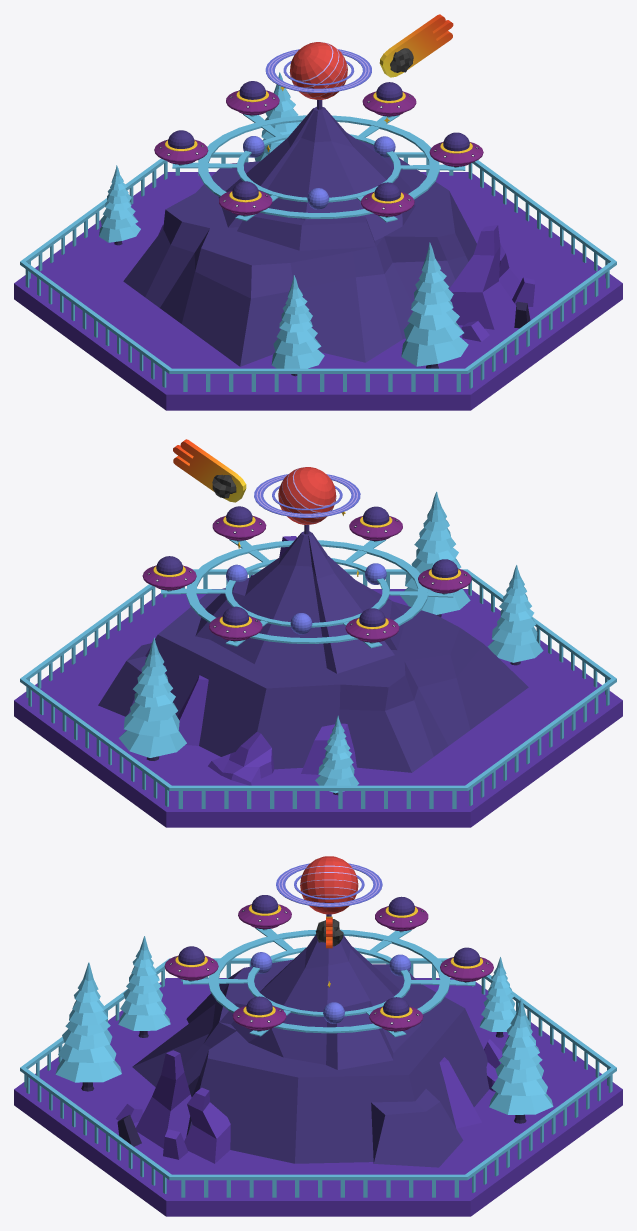
The model's file is D4_Cableway_UFO.fbx.
The picture shows the model from 3 angles, top to bottom: view 1: azimuth 30°, elevation 25°; view 2: azimuth 150°, elevation 25°; view 3: azimuth 270°, elevation 25°; orthographic projection.
Visible parts, largest first — view 1: Cylinder.060, Cube.062, Cone, Circle.008, Cylinder.071, Pine_Trees_Pack_Tree_stem_01.029, Circle.007, Stones__Rock_Gray_Rock_001.015, Pine_Trees_Pack_Tree_stem_01.044, Sphere.006, Pine_Trees_Pack_Tree_stem_01.046, Cube.072 (+9 smaller); view 2: Cylinder.060, Cube.062, Cone, Circle.008, Cylinder.071, Circle.007, Pine_Trees_Pack_Tree_stem_01.056, Pine_Trees_Pack_Tree_stem_01.029, Pine_Trees_Pack_Tree_stem_01.044, Sphere.006, Stones__Rock_Gray_Rock_001.014, Cube.072 (+10 smaller); view 3: Cylinder.060, Cube.062, Cone, Circle.008, Cylinder.071, Circle.007, Pine_Trees_Pack_Tree_stem_01.029, Pine_Trees_Pack_Tree_stem_01.056, Stones__Rock_Gray_Rock_001.015, Pine_Trees_Pack_Tree_stem_01.044, Sphere.006, Stones__Rock_Gray_Rock_002.005 (+10 smaller).
Part boxes in pixels (<box>): Cylinder.060: <box>14,172,622,410</box>; Cube.062: <box>123,157,476,366</box>; Cone: <box>218,106,415,250</box>; Circle.008: <box>154,81,483,222</box>; Cylinder.071: <box>20,152,616,373</box>; Pine_Trees_Pack_Tree_stem_01.029: <box>401,242,468,368</box>; Circle.007: <box>198,115,439,218</box>; Stones__Rock_Gray_Rock_001.015: <box>449,225,516,329</box>; Pine_Trees_Pack_Tree_stem_01.044: <box>271,275,324,376</box>; Sphere.006: <box>289,42,347,99</box>; Pine_Trees_Pack_Tree_stem_01.046: <box>99,165,140,245</box>; Cube.072: <box>379,14,453,77</box>; Cylinder.060: <box>14,589,622,827</box>; Cube.062: <box>98,588,528,772</box>; Cone: <box>195,531,404,673</box>; Circle.008: <box>142,506,471,648</box>; Cylinder.071: <box>20,569,616,790</box>; Circle.007: <box>186,540,428,643</box>; Pine_Trees_Pack_Tree_stem_01.056: <box>119,637,186,760</box>; Pine_Trees_Pack_Tree_stem_01.029: <box>400,491,470,617</box>; Pine_Trees_Pack_Tree_stem_01.044: <box>487,565,543,665</box>; Sphere.006: <box>278,467,336,524</box>; Stones__Rock_Gray_Rock_001.014: <box>208,732,274,785</box>; Cube.072: <box>173,439,246,502</box>; Cylinder.060: <box>14,978,622,1216</box>; Cube.062: <box>132,959,489,1167</box>; Cone: <box>220,934,420,1069</box>; Circle.008: <box>164,895,493,1036</box>; Cylinder.071: <box>20,958,616,1180</box>; Circle.007: <box>208,929,450,1033</box>; Pine_Trees_Pack_Tree_stem_01.029: <box>55,962,121,1091</box>; Pine_Trees_Pack_Tree_stem_01.056: <box>489,998,553,1123</box>; Stones__Rock_Gray_Rock_001.015: <box>136,1050,191,1148</box>; Pine_Trees_Pack_Tree_stem_01.044: <box>118,936,170,1037</box>; Sphere.006: <box>300,856,358,914</box>; Stones__Rock_Gray_Rock_002.005: <box>184,1087,230,1163</box>.
Bounding box in the file's own units: 1725 × 899 × 1992.
5 materials, 3 textured.
